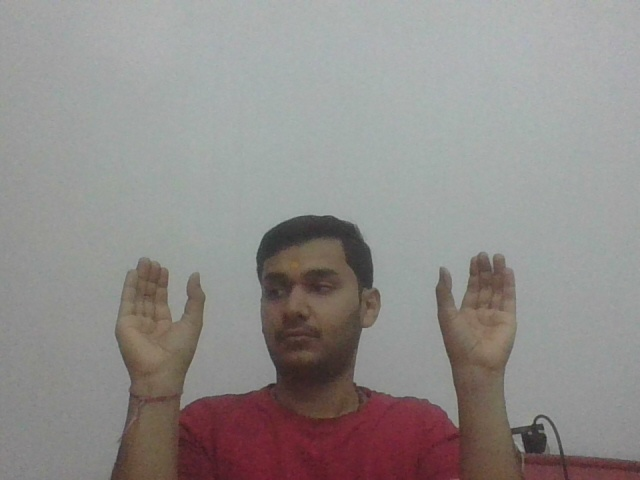U: (116, 249, 208, 377), (432, 251, 523, 374)
